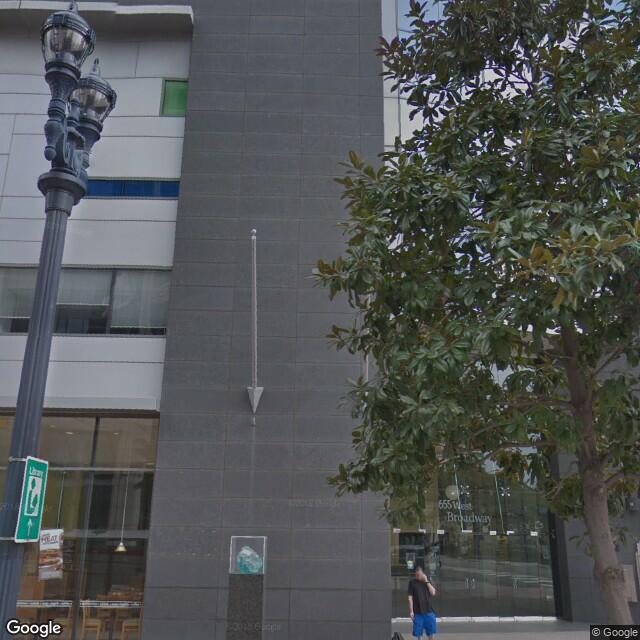light: (66, 73, 115, 146), (45, 14, 85, 93)
window: (94, 410, 153, 492), (113, 259, 170, 343)
